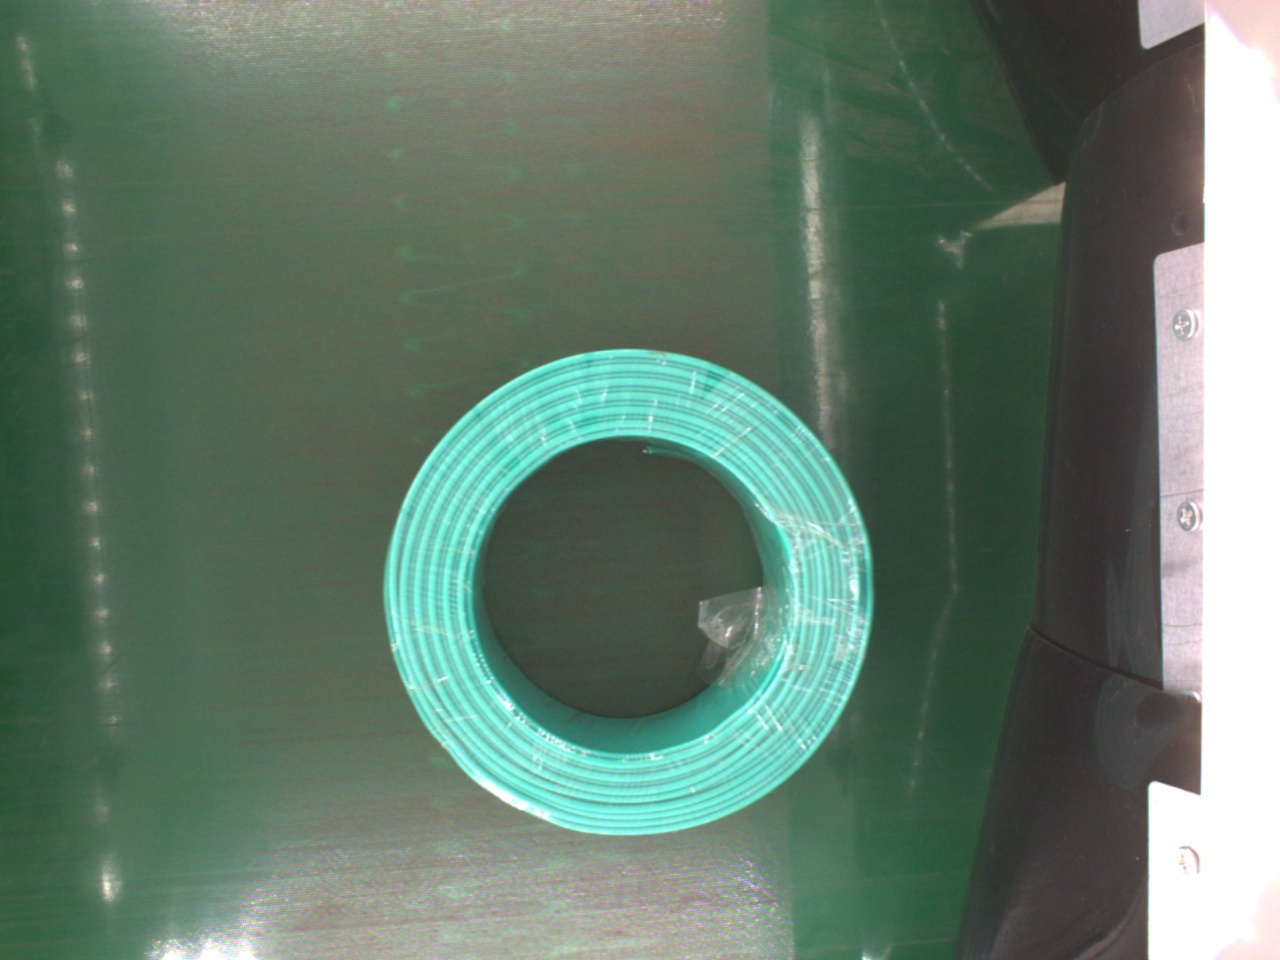green: (377, 348, 878, 845)
